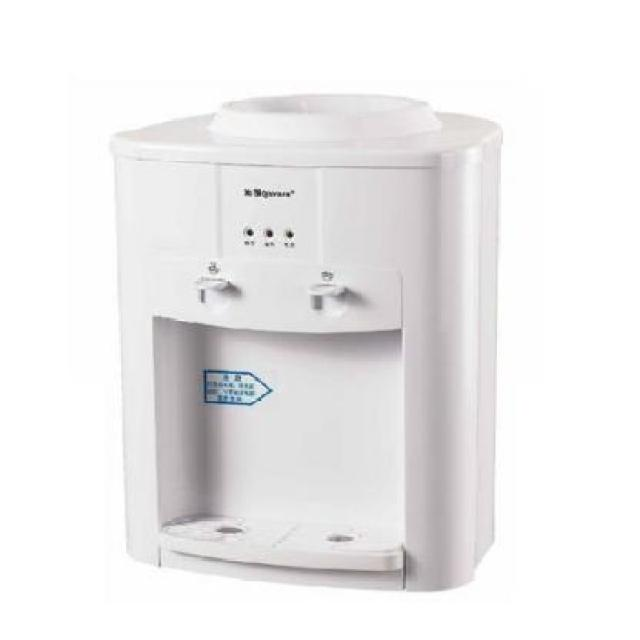cooler: (109, 94, 495, 596)
